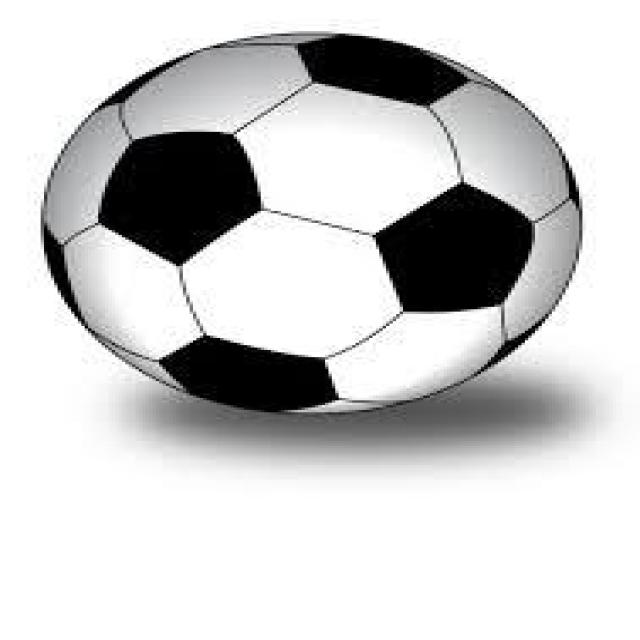Soccer Ball: (44, 26, 593, 422)
